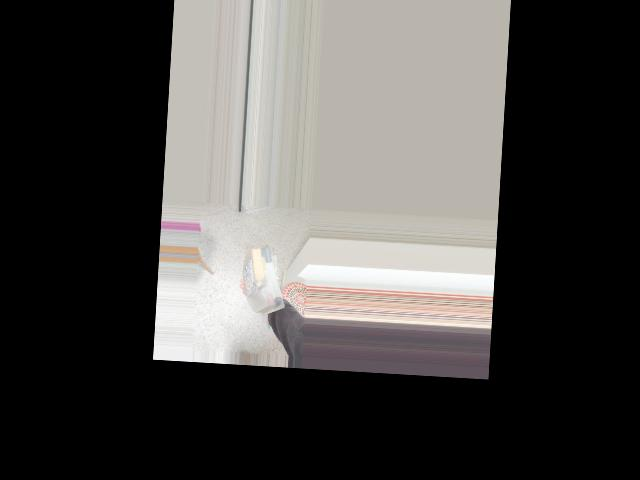cheese: (240, 241, 293, 314)
